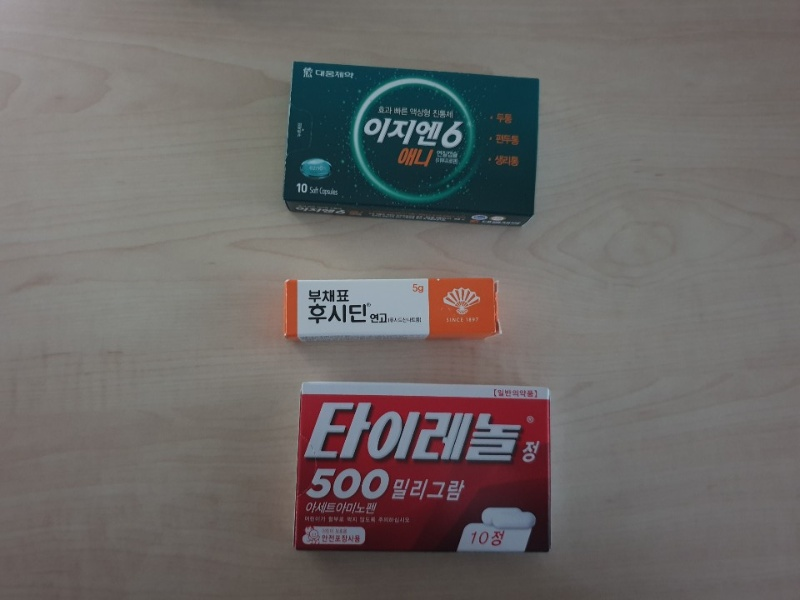ezn: (284, 61, 541, 227)
fucidin: (284, 279, 498, 340)
tylenol: (293, 382, 551, 554)
